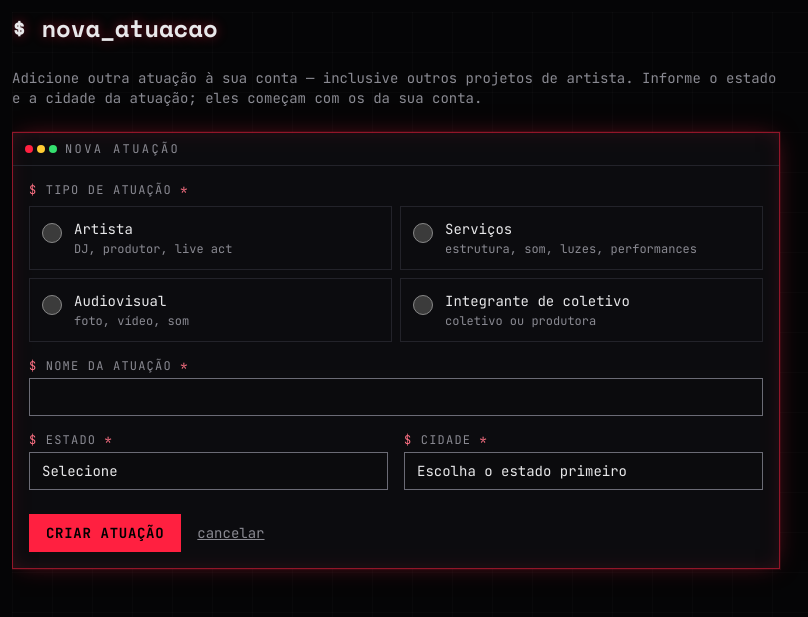
it: nova atuação › integrante sugere o nome da própria conta
Click the radio button labelled "Integrante de coletivo coletivo ou produtora" at (423, 305), box [413,295,433,315]
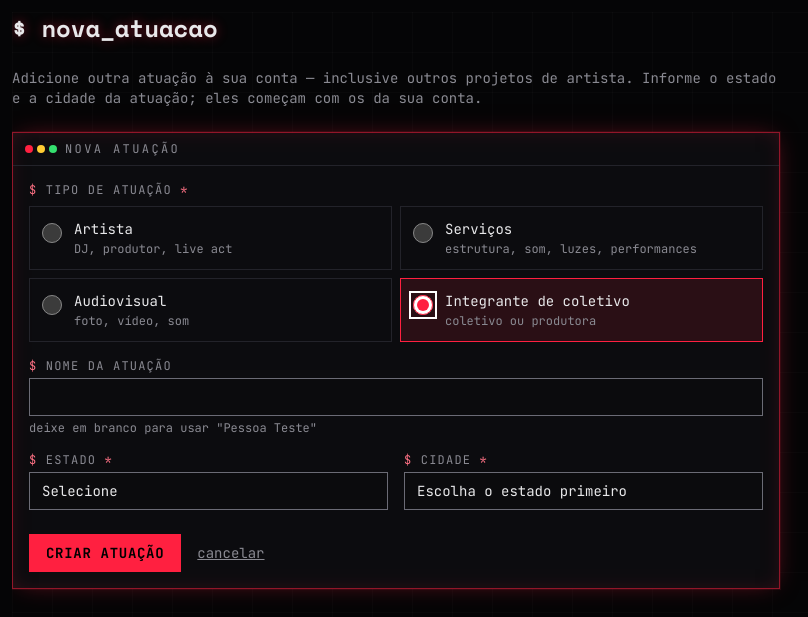
Now the text "deixe em branco para usar \"Pessoa Teste\"" is shown, box [29,420,317,436]
